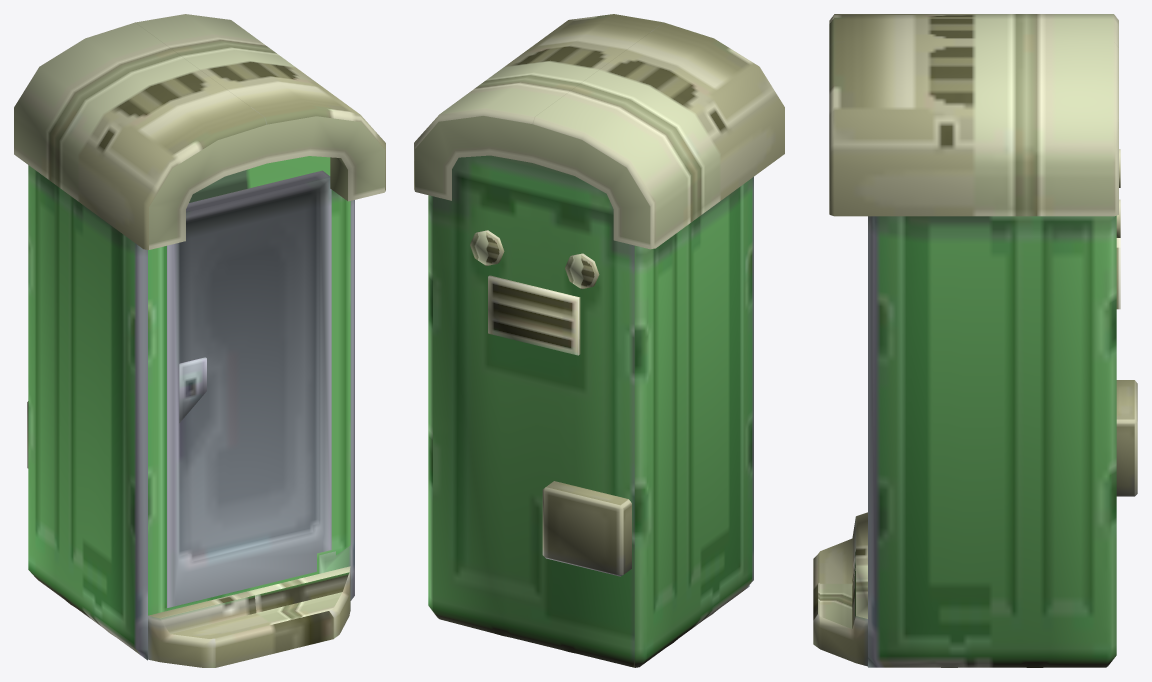
The model's file is int_oth_wc_portable.dae.
3 renders of one model, left to right at view 1: azimuth 30°, elevation 25°; view 2: azimuth 150°, elevation 25°; view 3: azimuth 270°, elevation 25°, orthographic. The views are drawn at different scales.
Visible parts, largest first — view 1: int_oth_wc_portable; view 2: int_oth_wc_portable; view 3: int_oth_wc_portable.
Part boxes in pixels (x1,y1,x2,y2): int_oth_wc_portable: (14,14,385,667); int_oth_wc_portable: (414,14,784,667); int_oth_wc_portable: (813,14,1137,667).
Bounding box in the file's own units: 29.16 × 60.9 × 31.27.
1 material, 1 textured.
